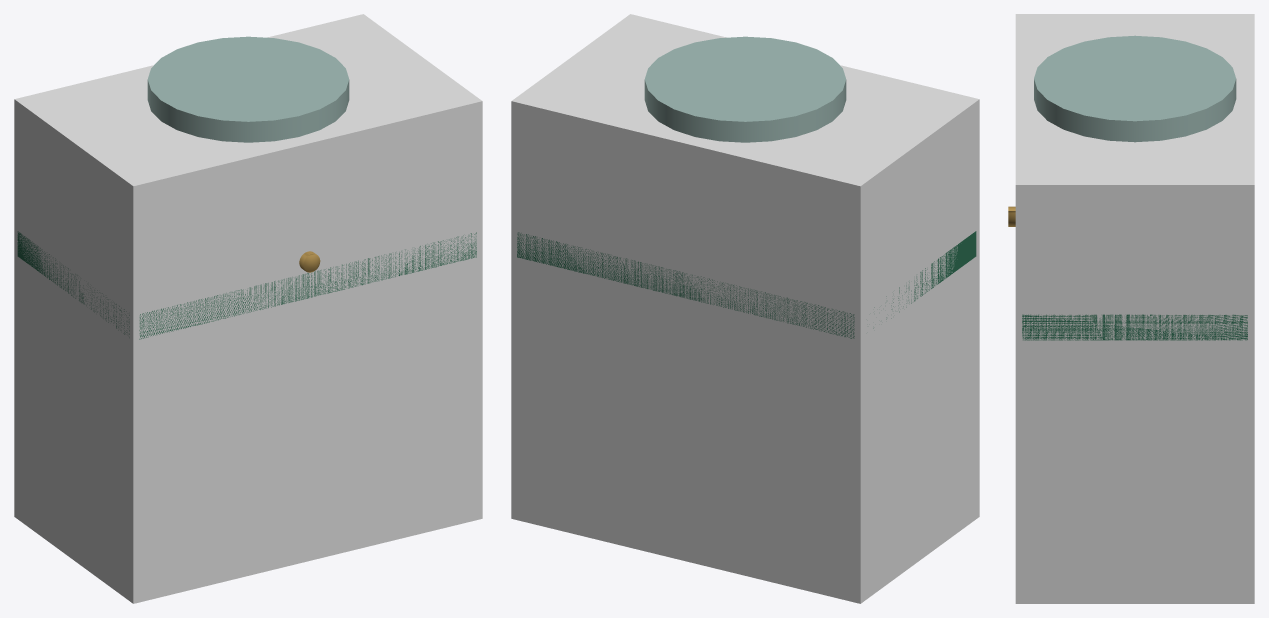
The model's file is hydration-station_boutique.glb.
3 renders of one model, left to right at view 1: azimuth 30°, elevation 25°; view 2: azimuth 150°, elevation 25°; view 3: azimuth 270°, elevation 25°, orthographic.
Visible parts, largest first — view 1: COL_hydration-station, MESH_Reservoir, MESH_Countertop; view 2: COL_hydration-station, MESH_Reservoir, MESH_Countertop; view 3: COL_hydration-station, MESH_Reservoir, MESH_Countertop.
Part boxes in pixels (x1=…): COL_hydration-station: x1=14, y1=14, x2=482, y2=603; MESH_Reservoir: x1=147, y1=36, x2=349, y2=142; MESH_Countertop: x1=17, y1=231, x2=476, y2=339; COL_hydration-station: x1=511, y1=14, x2=979, y2=603; MESH_Reservoir: x1=644, y1=36, x2=846, y2=142; MESH_Countertop: x1=517, y1=231, x2=976, y2=338; COL_hydration-station: x1=1015, y1=14, x2=1254, y2=603; MESH_Reservoir: x1=1034, y1=35, x2=1236, y2=142; MESH_Countertop: x1=1022, y1=314, x2=1247, y2=340.
Bounding box in the file's own units: 1.05 × 1.26 × 0.6386.
